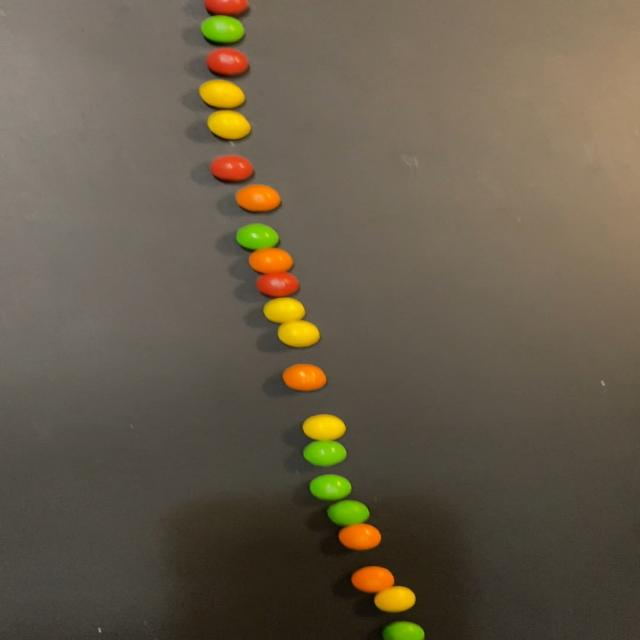smartie: (198, 79, 244, 108), (207, 109, 250, 140), (235, 184, 280, 212), (200, 14, 242, 43), (283, 364, 326, 392), (350, 567, 394, 594), (205, 47, 247, 75), (277, 320, 319, 348), (235, 223, 278, 250), (338, 524, 381, 551), (248, 247, 292, 273), (263, 297, 305, 324), (373, 587, 415, 614), (255, 272, 298, 298), (303, 441, 346, 467), (210, 154, 251, 181), (327, 501, 369, 527), (302, 415, 344, 441), (309, 475, 350, 501), (382, 622, 424, 640), (203, 0, 247, 14)
